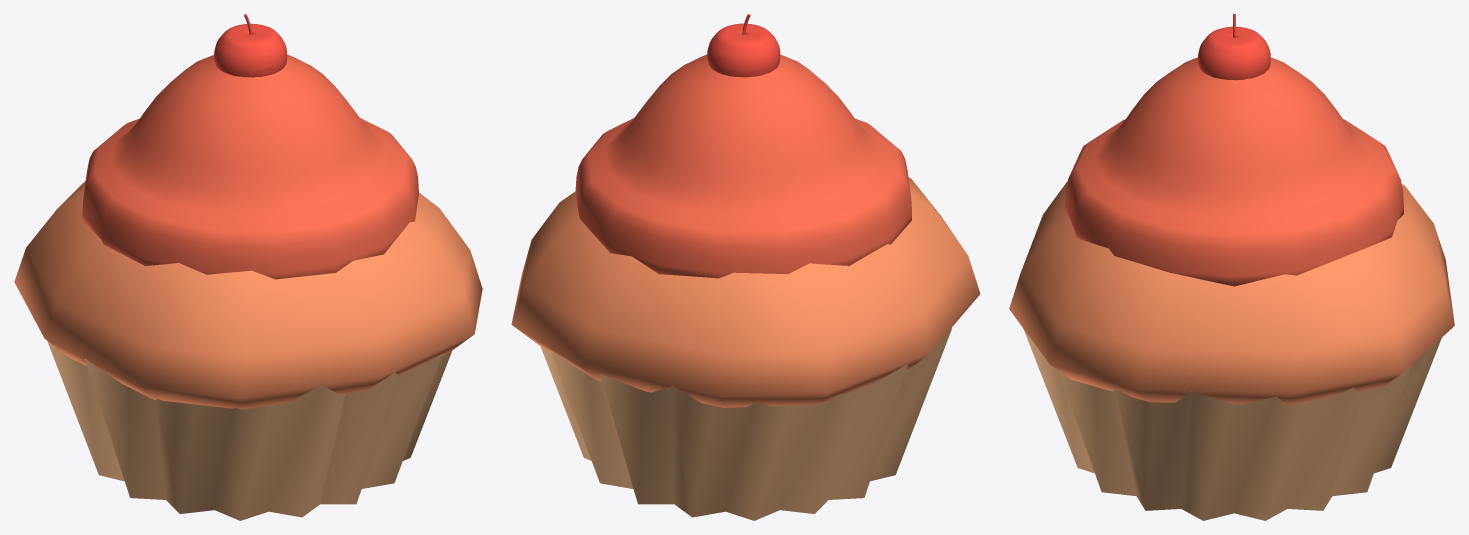
Rendered from Cupcakes.glb.
The picture shows the model from 3 angles, left to right: view 1: azimuth 30°, elevation 25°; view 2: azimuth 150°, elevation 25°; view 3: azimuth 270°, elevation 25°; orthographic projection.
Visible parts, largest first — view 1: Big, RoundedCone, Base, Cherry; view 2: Big, RoundedCone, Base, Cherry; view 3: Big, RoundedCone, Base, Cherry.
Part boxes in pixels (x1,y1,x2,y2): Big: (14,181,482,409); RoundedCone: (82,54,418,279); Base: (47,341,451,520); Cherry: (214,23,287,77); Big: (511,177,980,407); RoundedCone: (575,54,911,278); Base: (540,328,952,520); Cherry: (707,23,780,77); Big: (1009,181,1454,405); RoundedCone: (1065,57,1403,286); Base: (1023,282,1449,520); Cherry: (1198,26,1270,80).
Bounding box in the file's own units: 0.0703 × 0.0764 × 0.0703.
